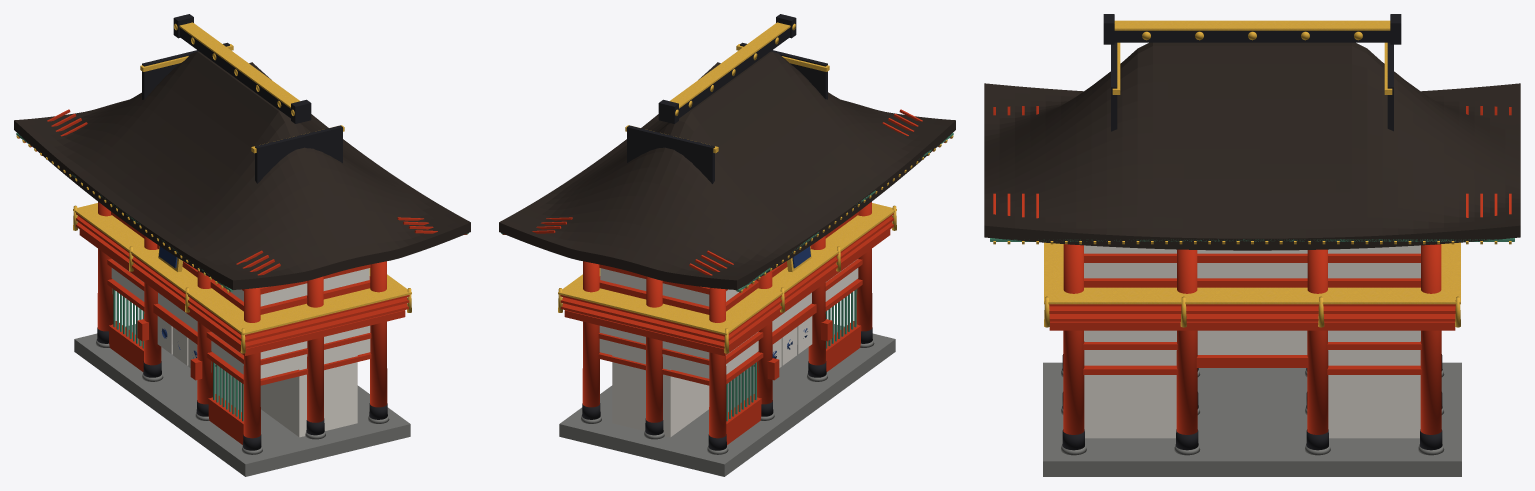
The model's file is Asset_04_Romon_Gate_1589.fbx.
The picture shows the model from 3 angles, left to right: view 1: azimuth 30°, elevation 25°; view 2: azimuth 150°, elevation 25°; view 3: azimuth 270°, elevation 25°; orthographic projection. The views are drawn at different scales.
Visible parts, largest first — view 1: Z01_Romon_Roof, Z01_Romon_Podium, Z01_Romon_Balcony_GoldTrim, Z01_Romon_Alcove_BackWall_-1, Z01_Romon_Shikku1_-1, Z01_Romon_Balcony_Rail_6.65, Z01_Romon_Balcony_Deck, Z01_Romon_Balcony_Rail_6.90, Z01_Romon_Roof_Gable_Pediment_-1, Z01_Romon_Col_0_0, Z01_Romon_Col_2_0, Z01_Romon_Col_1_0 (+14 smaller); view 2: Z01_Romon_Roof, Z01_Romon_Podium, Z01_Romon_Balcony_GoldTrim, Z01_Romon_Alcove_BackWall_1, Z01_Romon_Balcony_Rail_6.65, Z01_Romon_Balcony_Deck, Z01_Romon_Balcony_Rail_6.90, Z01_Romon_Roof_Gable_Pediment_1, Z01_Romon_Col_0_3, Z01_Romon_Col_2_3, Z01_Romon_Col_1_3, Z01_Romon_Roof_Ridge_Gold_Cap (+14 smaller); view 3: Z01_Romon_Roof, Z01_Romon_Podium, Z01_Romon_Balcony_GoldTrim, Z01_Romon_Upper_Shikku, Z01_Romon_Alcove_BackWall_-1, Z01_Romon_Alcove_BackWall_1, Z01_Romon_Balcony_Deck, Z01_Romon_Roof_Ridge_Beam, Z01_Romon_Col_2_0, Z01_Romon_Col_2_3, Z01_Romon_Balcony_Rail_6.90, Z01_Romon_Balcony_Rail_6.65 (+17 smaller).
Part boxes in pixels (x1,y1,x2,y2): Z01_Romon_Roof: (14,51,470,289); Z01_Romon_Podium: (74,324,410,476); Z01_Romon_Balcony_GoldTrim: (73,203,411,335); Z01_Romon_Alcove_BackWall_-1: (260,355,357,437); Z01_Romon_Shikku1_-1: (211,325,370,378); Z01_Romon_Balcony_Rail_6.65: (76,222,408,348); Z01_Romon_Balcony_Deck: (79,230,405,355); Z01_Romon_Balcony_Rail_6.90: (76,216,409,342); Z01_Romon_Roof_Gable_Pediment_-1: (255,125,342,183); Z01_Romon_Col_0_0: (243,287,260,438); Z01_Romon_Col_2_0: (370,261,387,407); Z01_Romon_Col_1_0: (307,276,323,422); Z01_Romon_Roof: (499,51,955,289); Z01_Romon_Podium: (559,324,895,476); Z01_Romon_Balcony_GoldTrim: (558,203,896,335); Z01_Romon_Alcove_BackWall_1: (612,328,709,437); Z01_Romon_Balcony_Rail_6.65: (561,222,893,348); Z01_Romon_Balcony_Deck: (564,230,890,355); Z01_Romon_Balcony_Rail_6.90: (560,216,893,342); Z01_Romon_Roof_Gable_Pediment_1: (627,125,714,183); Z01_Romon_Col_0_3: (709,287,726,438); Z01_Romon_Col_2_3: (582,261,599,407); Z01_Romon_Col_1_3: (646,276,662,422); Z01_Romon_Roof_Ridge_Gold_Cap: (670,22,790,108); Z01_Romon_Roof: (984,42,1520,250); Z01_Romon_Podium: (1043,362,1461,476); Z01_Romon_Balcony_GoldTrim: (1044,242,1460,304); Z01_Romon_Upper_Shikku: (1084,245,1420,278); Z01_Romon_Alcove_BackWall_-1: (1084,375,1176,438); Z01_Romon_Alcove_BackWall_1: (1328,375,1420,438); Z01_Romon_Balcony_Deck: (1049,321,1455,330); Z01_Romon_Roof_Ridge_Beam: (1114,30,1390,42); Z01_Romon_Col_2_0: (1063,244,1084,434); Z01_Romon_Col_2_3: (1420,244,1441,434); Z01_Romon_Balcony_Rail_6.90: (1049,306,1455,313); Z01_Romon_Balcony_Rail_6.65: (1049,314,1455,321).
Size of the model in its own units: 990 by 1313 by 1560.
9 materials, 1 textured.
